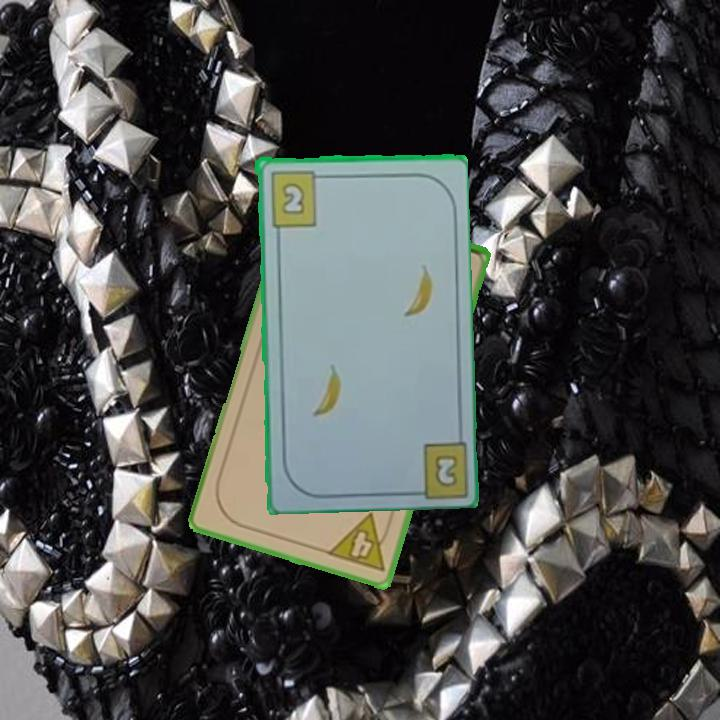2b: (266, 166, 327, 229), (431, 451, 460, 490)
4p: (323, 510, 396, 575)
